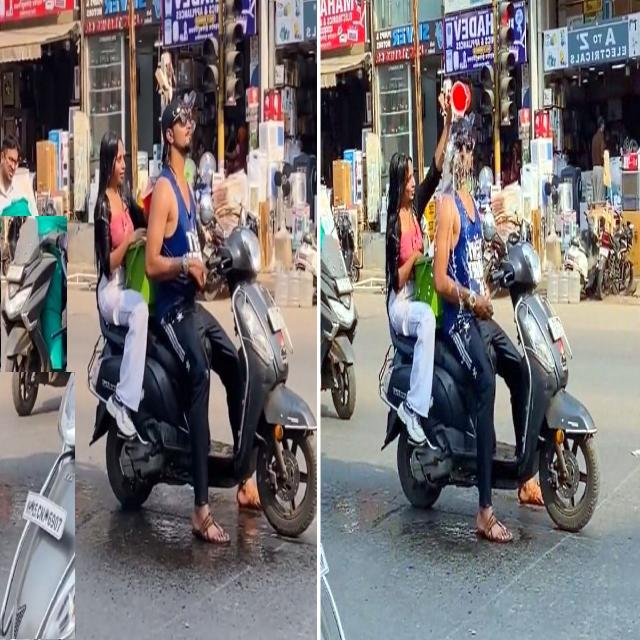motorcycle: (89, 98, 316, 545), (490, 239, 600, 533), (0, 372, 75, 639), (380, 327, 476, 506), (1, 217, 66, 415), (320, 234, 358, 418), (594, 222, 634, 299), (564, 220, 599, 294)
